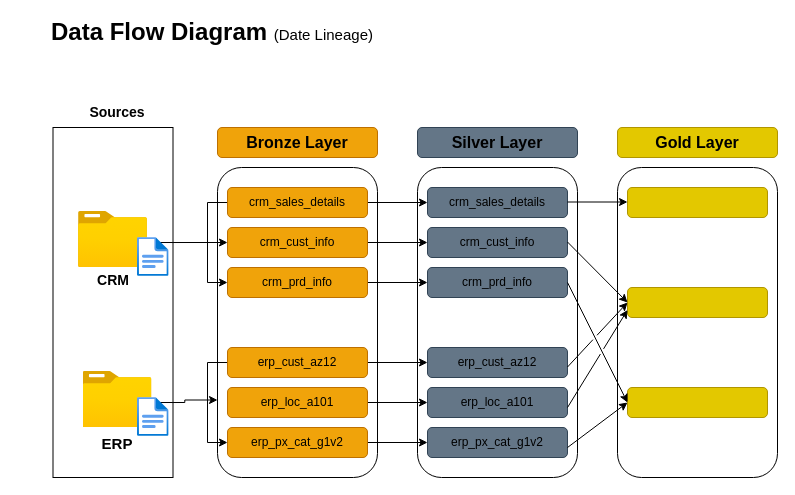
The diagram is 795 pixels wide and 495 high, and some of its shapes have lost their labels. The shapes that lost their labels are listed below. From the top down, each one's centre as x and y in pixels, then its label:
pixel 697 202: facts_sales
pixel 697 302: dim_customers
pixel 697 402: dim_products
